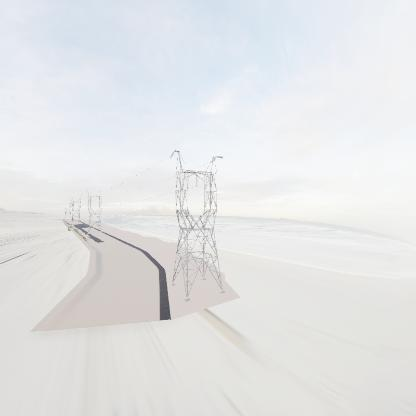tower: (167, 145, 228, 304)
